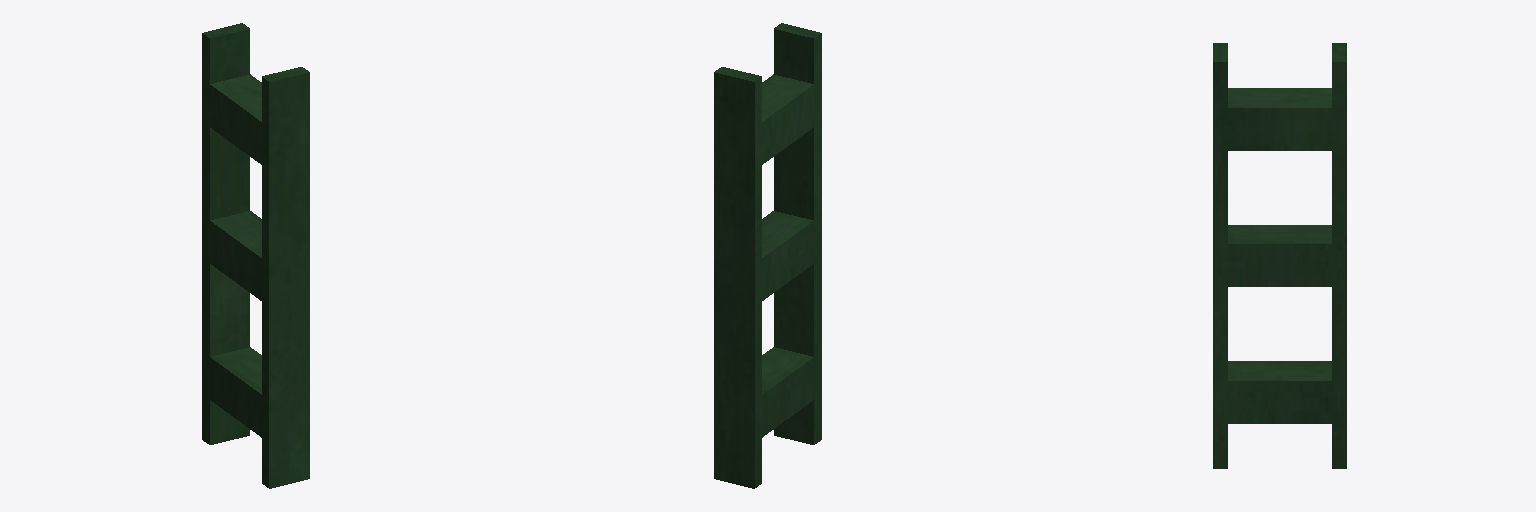
The picture shows the model from 3 angles: view 1: azimuth 30°, elevation 25°; view 2: azimuth 150°, elevation 25°; view 3: azimuth 270°, elevation 25°; orthographic projection.
Visible parts, largest first — view 1: HV69_Mast_5.6m.005; view 2: HV69_Mast_5.6m.005; view 3: HV69_Mast_5.6m.005.
Part boxes in pixels (bbox=[...]): HV69_Mast_5.6m.005: bbox=[202, 23, 309, 488]; HV69_Mast_5.6m.005: bbox=[714, 23, 821, 488]; HV69_Mast_5.6m.005: bbox=[1213, 43, 1346, 468].
Size of the model in its own units: 0.1042 by 1 by 0.3.
1 materials, 1 textured.